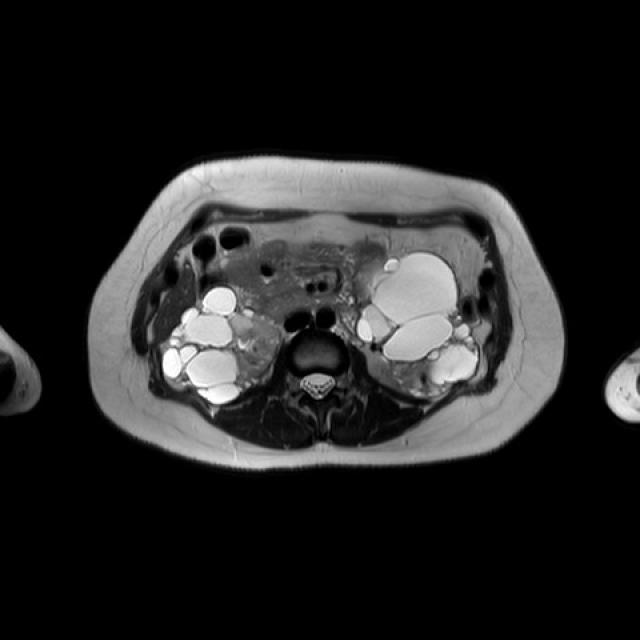sag: (165, 286, 287, 403)
sol: (355, 250, 480, 398)
